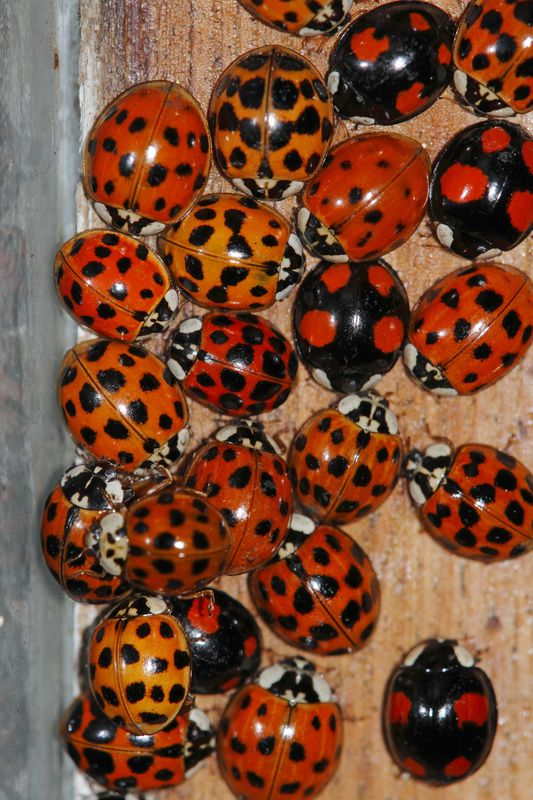red: (206, 42, 335, 205), (80, 79, 211, 236), (55, 339, 192, 476), (296, 132, 436, 266), (213, 657, 341, 800), (161, 194, 306, 314), (281, 390, 405, 528), (404, 262, 529, 398), (246, 527, 382, 652), (80, 491, 235, 598), (400, 443, 533, 563), (80, 597, 192, 733), (51, 227, 180, 343), (169, 308, 299, 422)
two_spots_mutant: (379, 635, 499, 788), (323, 1, 457, 127), (293, 254, 410, 397), (428, 120, 532, 262)
